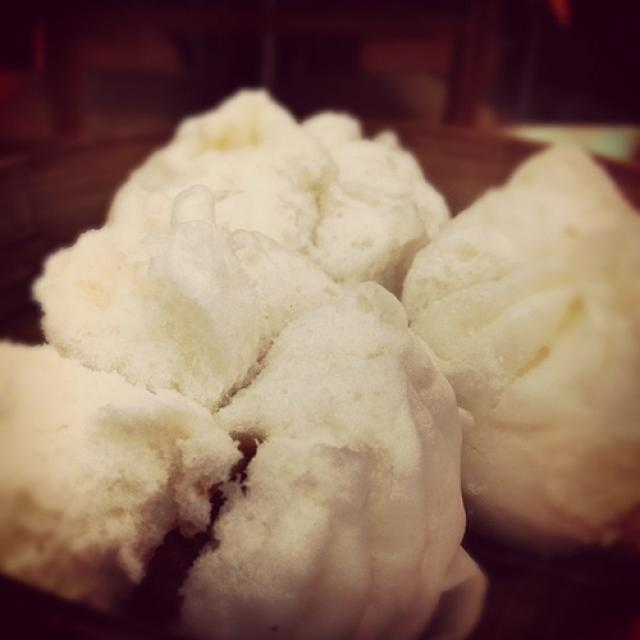带馅早点: (18, 15, 619, 616)
